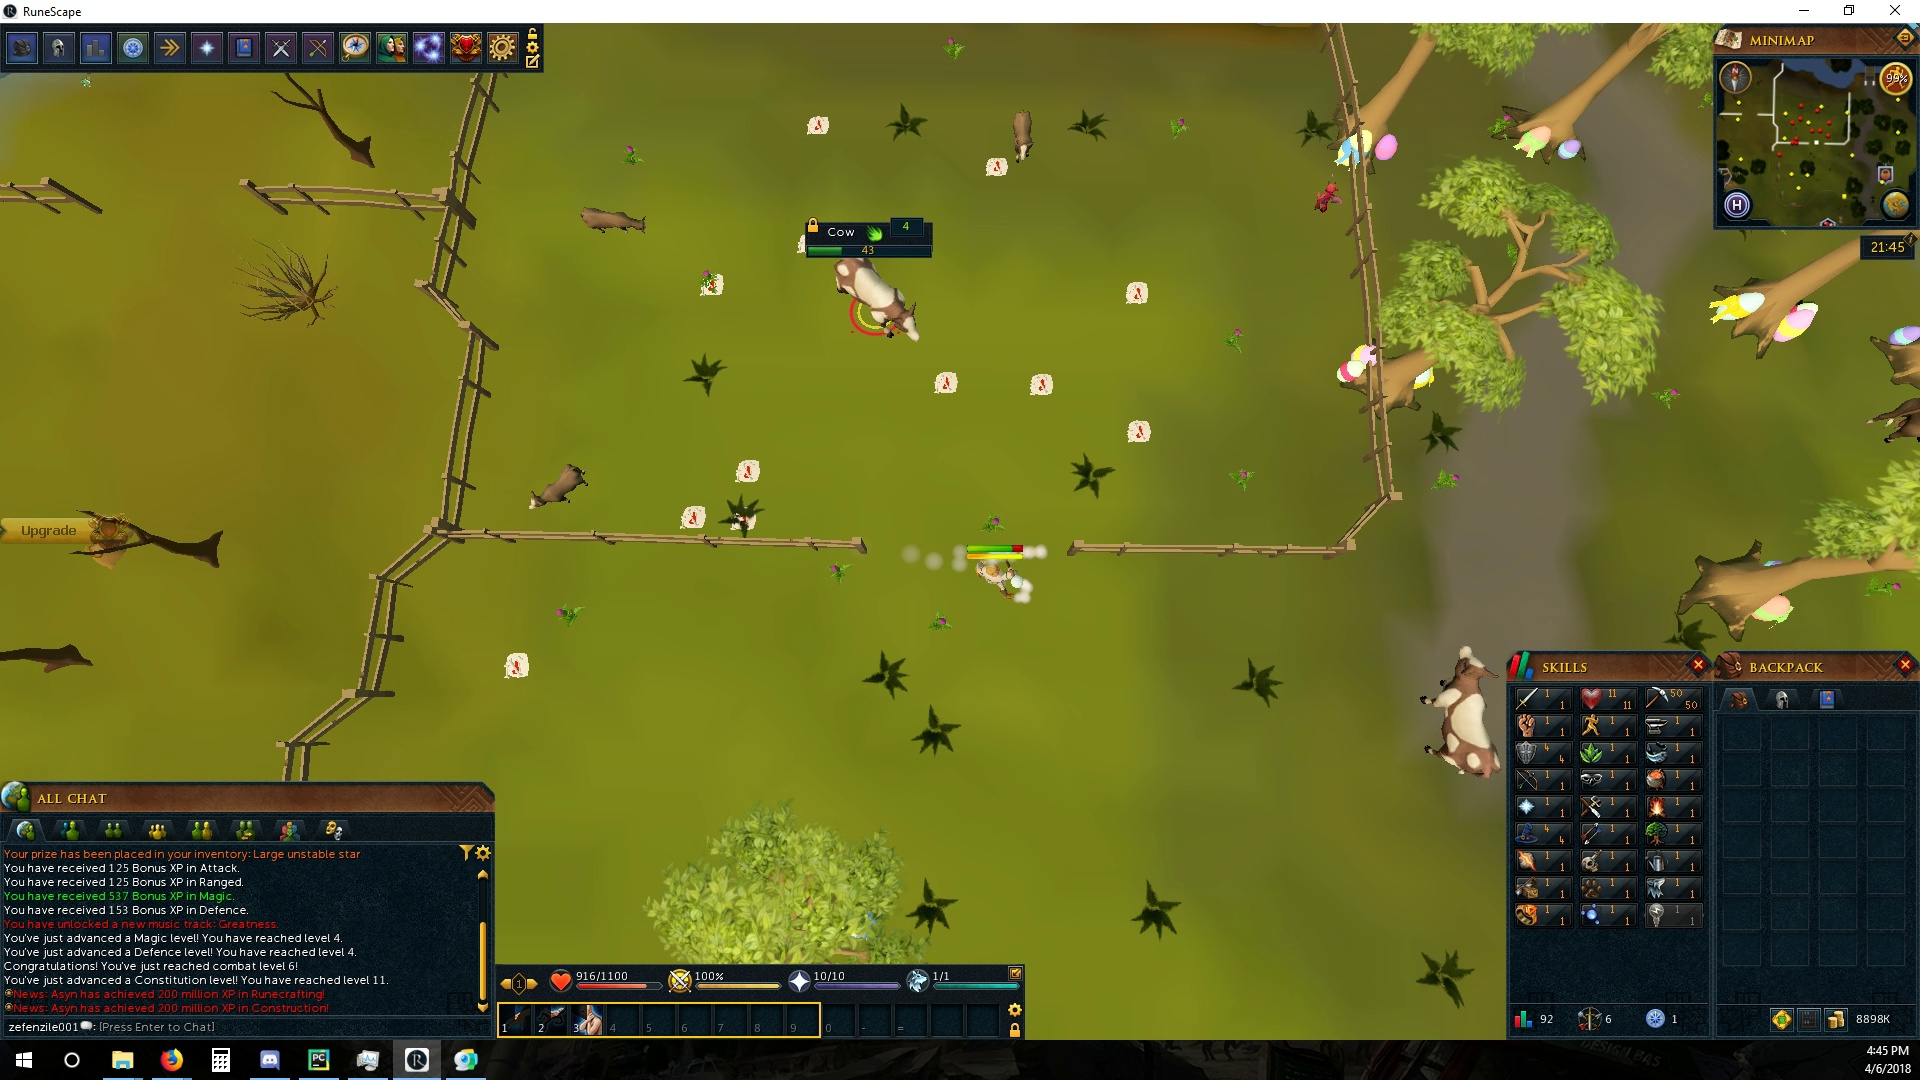calf: (527, 462, 591, 516), (575, 203, 650, 237), (1010, 107, 1034, 166)
cow: (1419, 645, 1507, 786), (829, 258, 926, 347)
cow_drop: (501, 649, 533, 684), (675, 502, 709, 531), (695, 270, 727, 301), (1122, 276, 1150, 309), (1124, 417, 1155, 444), (733, 459, 764, 485), (981, 153, 1015, 175), (931, 369, 960, 396), (729, 506, 760, 531), (1029, 371, 1054, 396), (803, 116, 833, 136)
